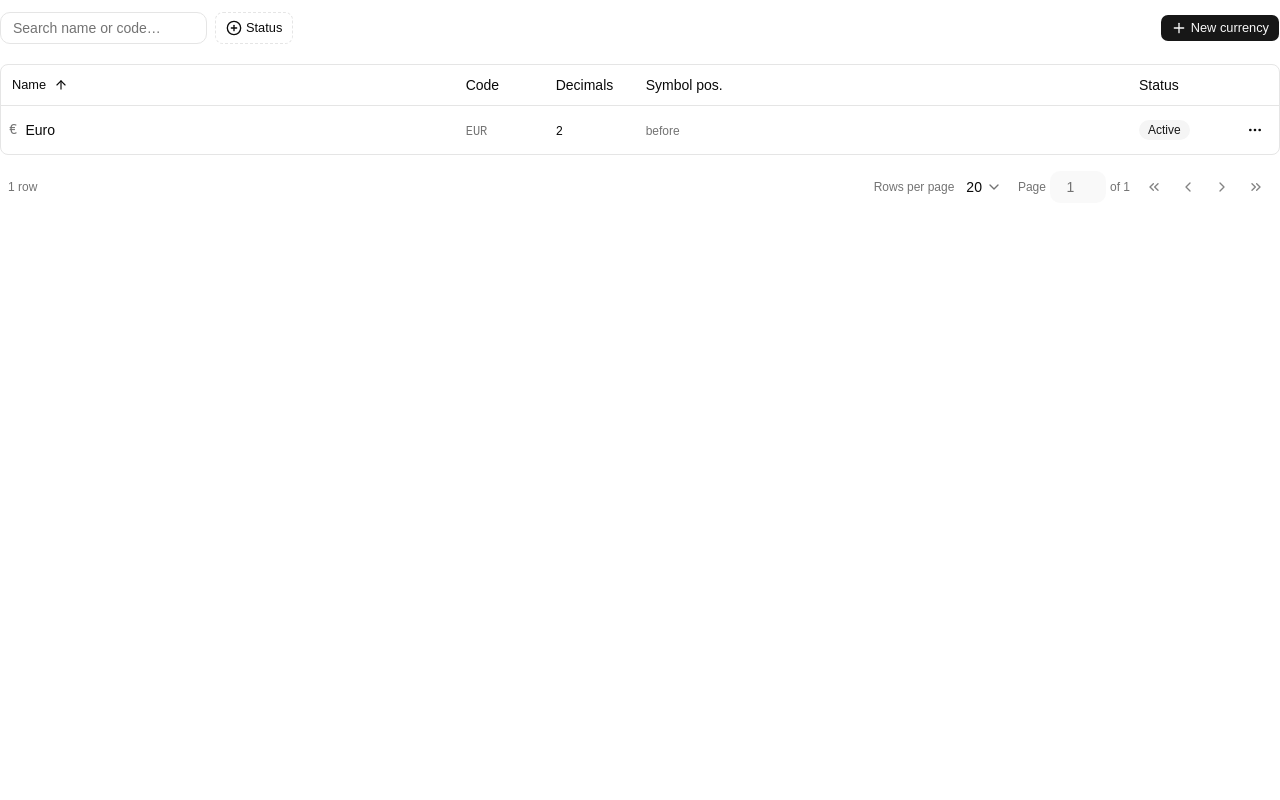
Scenario: CurrenciesList delete › keeps the dialog open and explains a refused delete
Check: the link "New currency" is shown, box [1160,14,1279,42]
Press Enter in the button named "Actions for Euro", box [1239,114,1271,146]
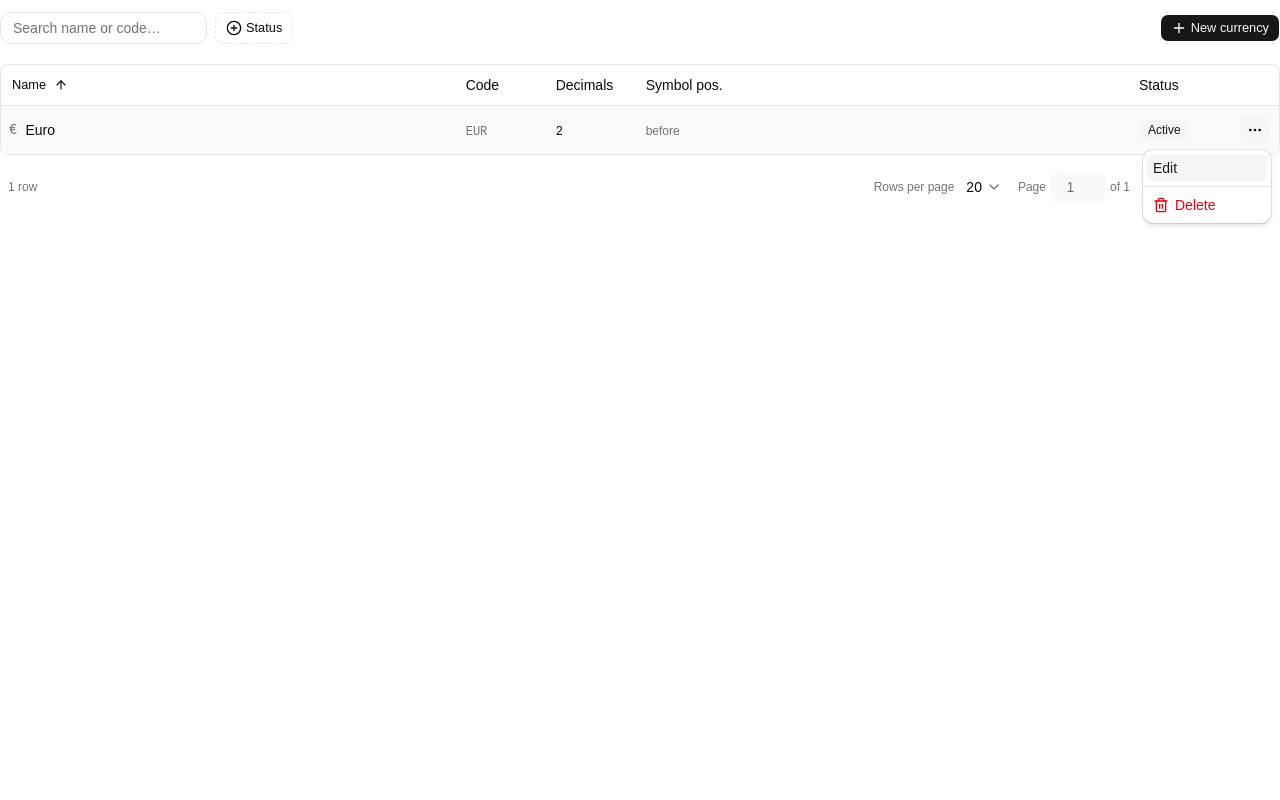
Click the menu item "Delete".
click(1184, 205)  # box [1153,197,1216,213]
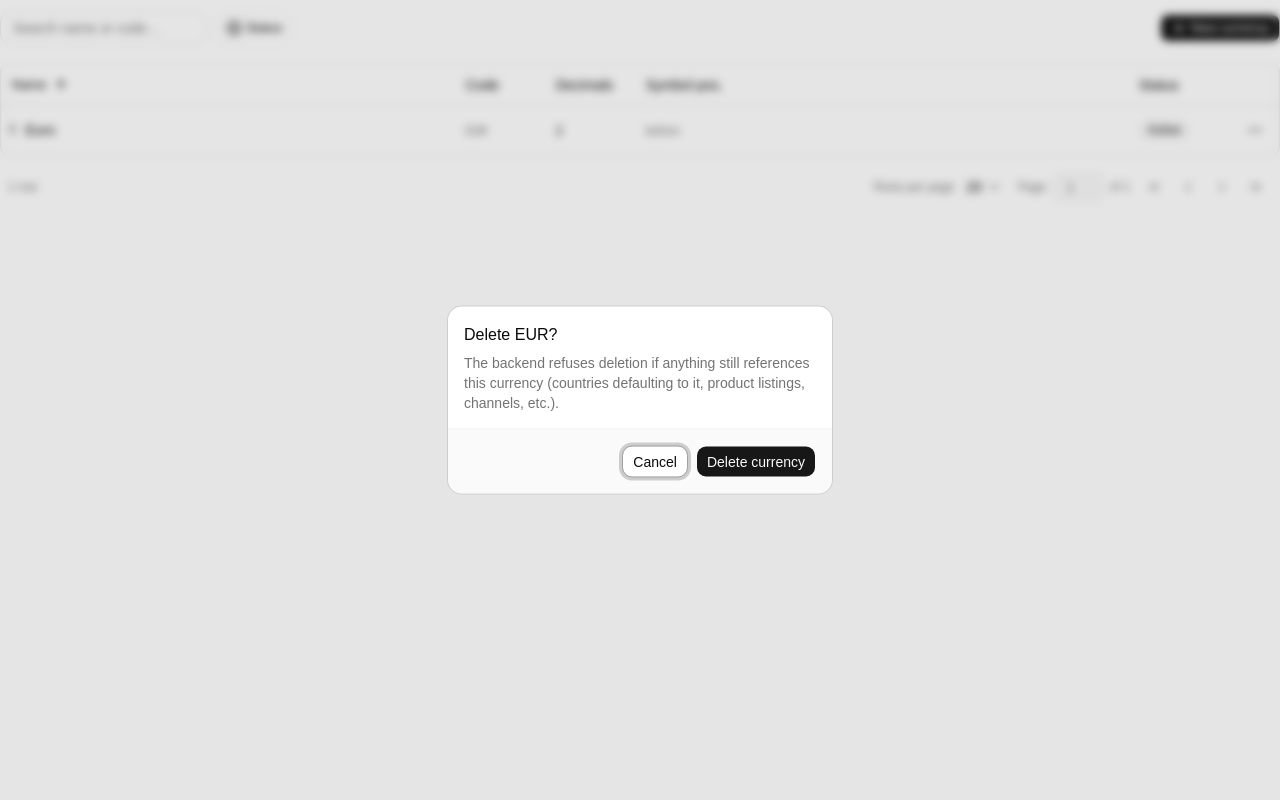
Click the button "Delete currency".
click(756, 462)  # box [696,446,816,478]
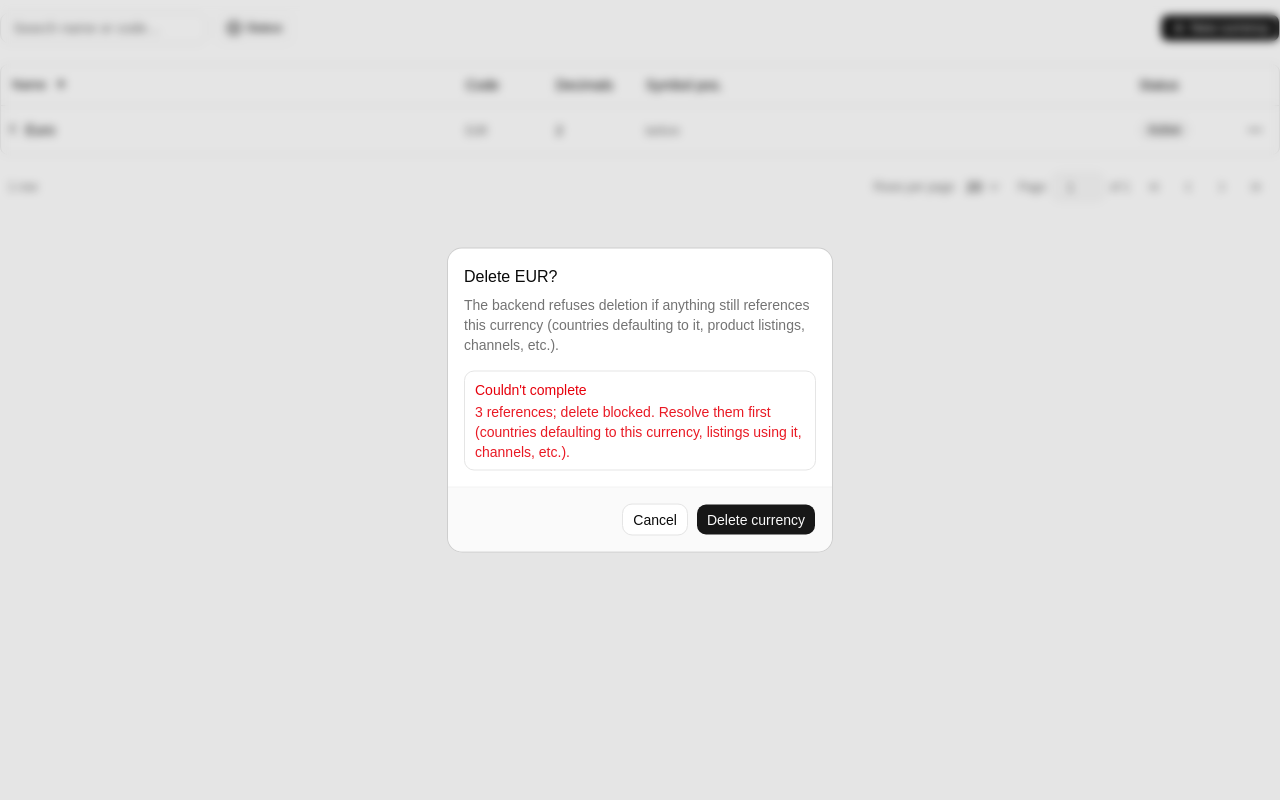
Check: the text "3 references; delete blocked" is shown, box [475,404,802,460]
